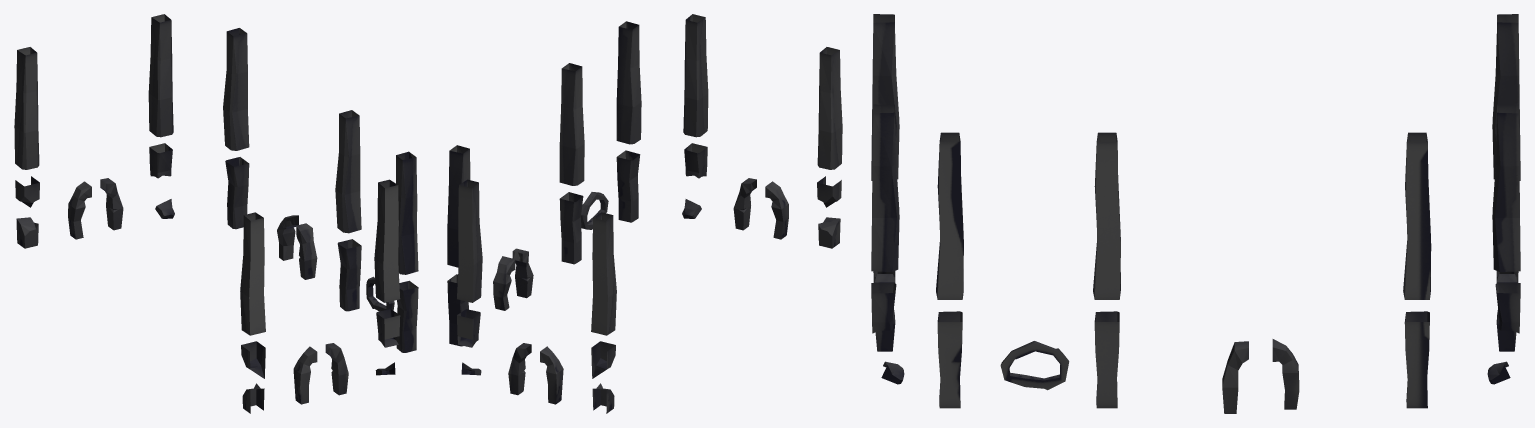
The model's file is Wall_02.FBX.
3 views of the same model, side by side, from view 1: azimuth 30°, elevation 25°; view 2: azimuth 150°, elevation 25°; view 3: azimuth 270°, elevation 25° (orthographic). The views are drawn at different scales.
Visible parts, largest first — view 1: Wall_02; view 2: Wall_02; view 3: Wall_02.
Part boxes in pixels (x1,y1,x2,y2): Wall_02: (14, 14, 418, 413); Wall_02: (447, 14, 842, 413); Wall_02: (871, 14, 1520, 413).
Bounding box in the file's own units: 12.37 × 11.95 × 25.83.
